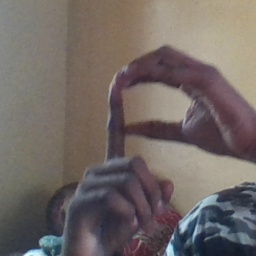P: (84, 43, 230, 228)
